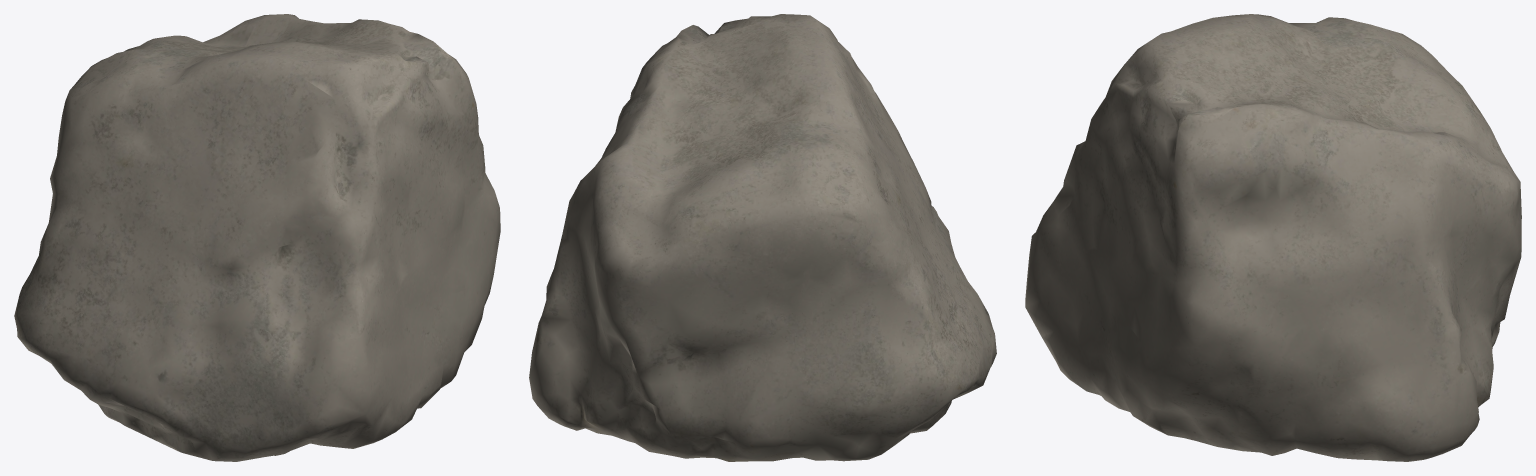
The model's file is moon_rock_02.glb.
3 renders of one model, left to right at view 1: azimuth 30°, elevation 25°; view 2: azimuth 150°, elevation 25°; view 3: azimuth 270°, elevation 25°, orthographic. The views are drawn at different scales.
Visible parts, largest first — view 1: moon_rock_02_LOD0; view 2: moon_rock_02_LOD0; view 3: moon_rock_02_LOD0.
Boxes of the visible parts, x1,y1,x2,y2 form: moon_rock_02_LOD0: (14, 14, 500, 461); moon_rock_02_LOD0: (529, 14, 996, 461); moon_rock_02_LOD0: (1025, 14, 1521, 461).
Size of the model in its own units: 0.2465 by 0.2019 by 0.2513.
Materials: 1 (1 with a texture image).
